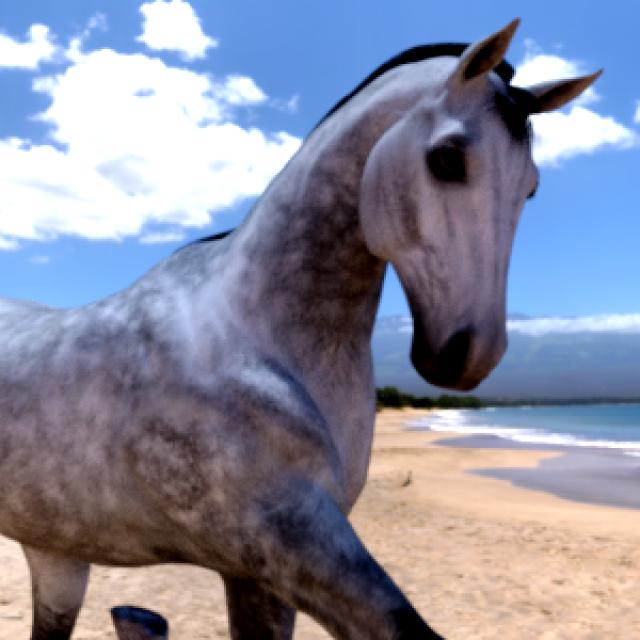horse: (0, 20, 600, 640), (112, 610, 165, 640)
